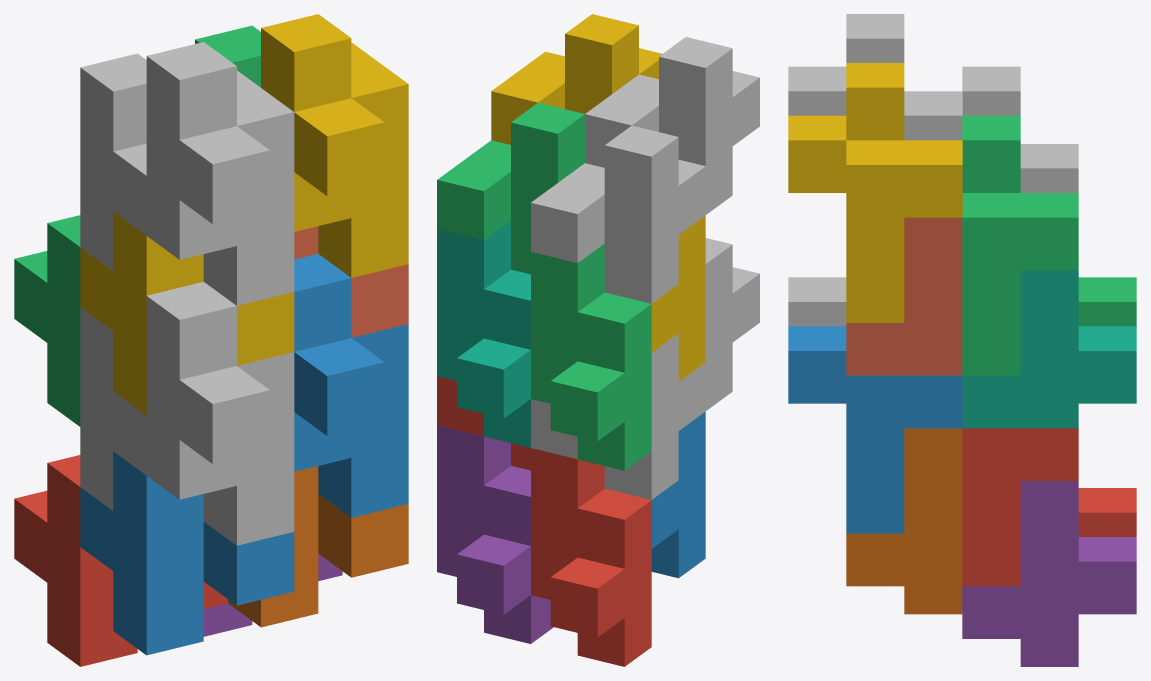
File: tiling.obj
3 views of the same model, side by side, from view 1: azimuth 30°, elevation 25°; view 2: azimuth 150°, elevation 25°; view 3: azimuth 270°, elevation 25° (orthographic). The views are drawn at different scales.
Parts seen in each view (by area): view 1: copy_2_domain_4, copy_2_domain_2, copy_2_domain_8, copy_2_domain_6, copy_1_domain_2, copy_1_domain_4, copy_1_domain_1, copy_2_domain_3, copy_1_domain_6, copy_1_domain_3, copy_2_domain_1, copy_1_domain_8 (+2 smaller); view 2: copy_1_domain_3, copy_1_domain_1, copy_2_domain_3, copy_1_domain_5, copy_1_domain_7, copy_2_domain_4, copy_2_domain_7, copy_2_domain_8, copy_2_domain_1, copy_1_domain_2, copy_2_domain_2, copy_1_domain_4 (+1 smaller); view 3: copy_2_domain_8, copy_2_domain_7, copy_1_domain_5, copy_2_domain_6, copy_1_domain_7, copy_1_domain_6, copy_2_domain_5, copy_1_domain_8, copy_2_domain_4, copy_2_domain_3, copy_1_domain_3, copy_2_domain_2 (+1 smaller).
Boxes of the visible parts, left/top/right/bottom form: copy_2_domain_4: left=146, top=42, right=294, bottom=305; copy_2_domain_2: left=146, top=282, right=294, bottom=545; copy_2_domain_8: left=261, top=14, right=408, bottom=277; copy_2_domain_6: left=294, top=254, right=408, bottom=517; copy_1_domain_2: left=80, top=451, right=294, bottom=655; copy_1_domain_4: left=80, top=212, right=294, bottom=415; copy_1_domain_1: left=14, top=455, right=227, bottom=666; copy_2_domain_3: left=80, top=53, right=146, bottom=270; copy_1_domain_6: left=228, top=466, right=408, bottom=627; copy_1_domain_3: left=14, top=215, right=80, bottom=426; copy_2_domain_1: left=80, top=307, right=146, bottom=510; copy_1_domain_8: left=294, top=226, right=408, bottom=337; copy_1_domain_3: left=531, top=244, right=651, bottom=470; copy_1_domain_1: left=531, top=448, right=651, bottom=666; copy_2_domain_3: left=531, top=125, right=705, bottom=303; copy_1_domain_5: left=437, top=425, right=553, bottom=643; copy_1_domain_7: left=437, top=221, right=530, bottom=447; copy_2_domain_4: left=585, top=37, right=759, bottom=214; copy_2_domain_7: left=437, top=102, right=584, bottom=274; copy_2_domain_8: left=491, top=14, right=662, bottom=144; copy_2_domain_1: left=531, top=333, right=705, bottom=499; copy_1_domain_2: left=651, top=412, right=705, bottom=578; copy_2_domain_2: left=705, top=238, right=759, bottom=410; copy_1_domain_4: left=651, top=215, right=705, bottom=381; copy_2_domain_8: left=788, top=63, right=962, bottom=322; copy_2_domain_7: left=962, top=115, right=1078, bottom=375; copy_1_domain_5: left=962, top=481, right=1136, bottom=666; copy_2_domain_6: left=788, top=326, right=962, bottom=533; copy_1_domain_7: left=962, top=270, right=1136, bottom=428; copy_1_domain_6: left=846, top=428, right=962, bottom=614; copy_2_domain_5: left=962, top=428, right=1078, bottom=586; copy_1_domain_8: left=846, top=217, right=962, bottom=375; copy_2_domain_4: left=788, top=14, right=962, bottom=140; copy_2_domain_3: left=962, top=66, right=1078, bottom=192; copy_1_domain_3: left=1078, top=277, right=1136, bottom=326; copy_2_domain_2: left=788, top=277, right=846, bottom=326.
Bounding box in the file's own units: 4 × 11 × 6.
